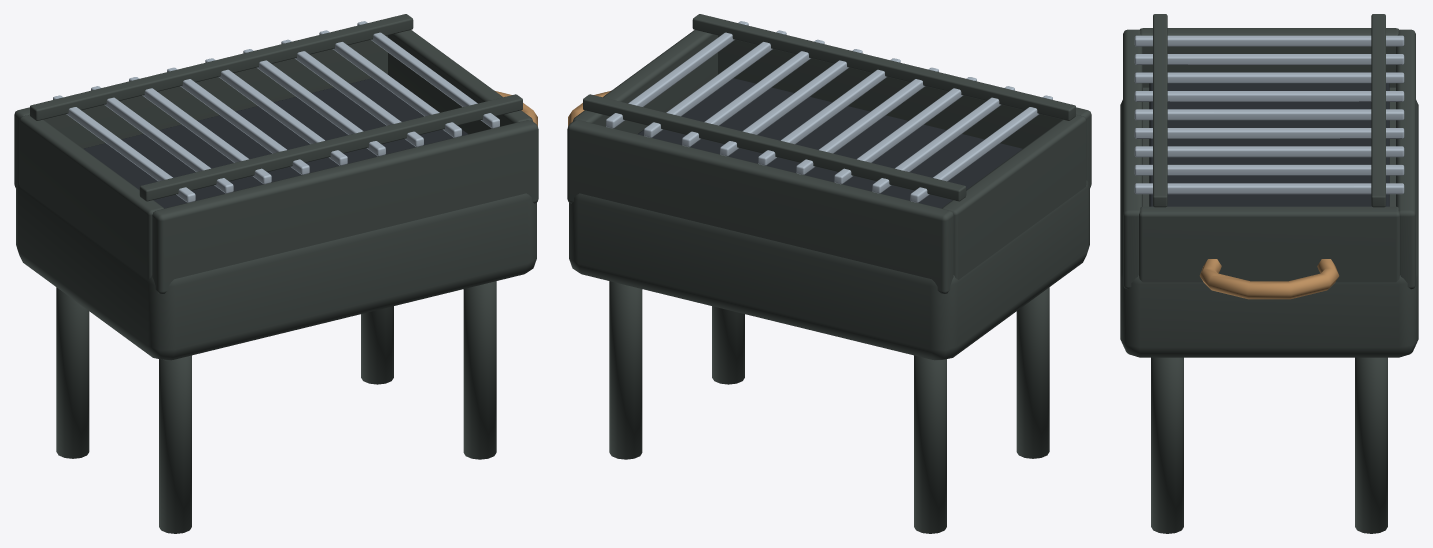
The model's file is garden.grill-new.glb.
The picture shows the model from 3 angles, left to right: view 1: azimuth 30°, elevation 25°; view 2: azimuth 150°, elevation 25°; view 3: azimuth 270°, elevation 25°; orthographic projection.
Visible parts, largest first — view 1: Tubular leg; view 2: Tubular leg; view 3: Tubular leg.
Boxes of the visible parts, x1,y1,x2,y2 form: Tubular leg: (14, 14, 538, 533); Tubular leg: (567, 14, 1091, 533); Tubular leg: (1120, 14, 1418, 533).
Bounding box in the file's own units: 1.4 × 1.06 × 0.82.
